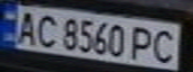0: (106, 21, 130, 59)
5: (75, 17, 96, 54)
6: (90, 20, 112, 56)
8: (57, 15, 81, 52)
A: (12, 8, 42, 45)
C: (148, 27, 181, 64), (30, 11, 60, 48)
P: (127, 24, 160, 62)
